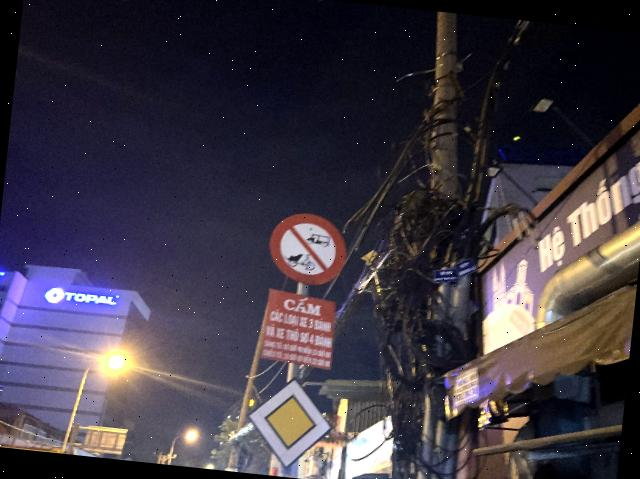bat-dau-duong-uu-tien: (241, 372, 340, 475)
cam-xe-3-banh-xe-tho-so-4-banh: (266, 209, 350, 288)
